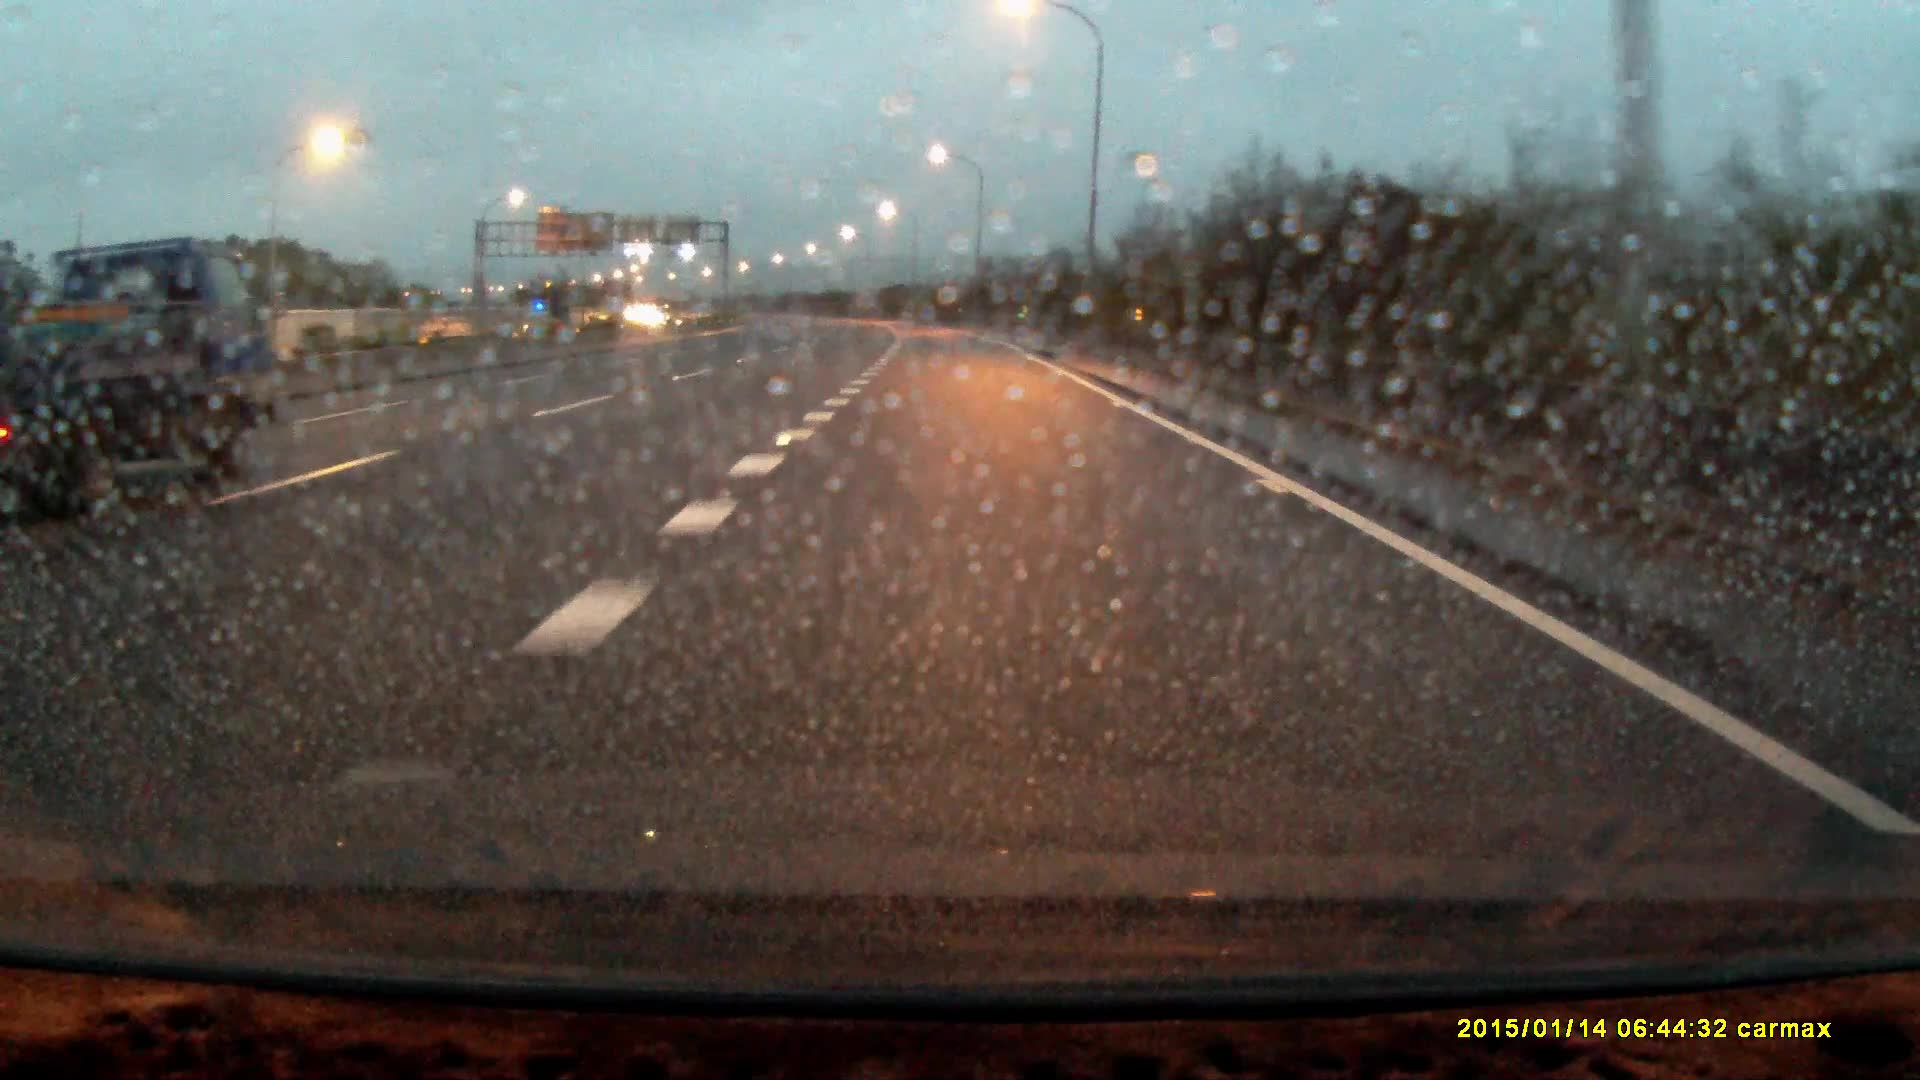vehicle: (1, 222, 334, 520)
